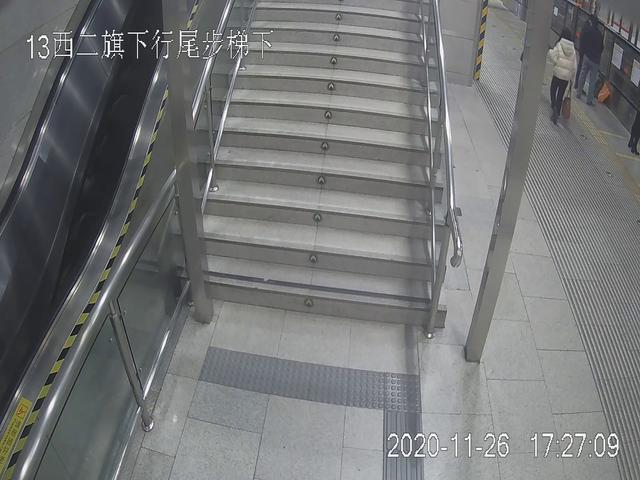person: (546, 25, 584, 128), (576, 14, 606, 104)
